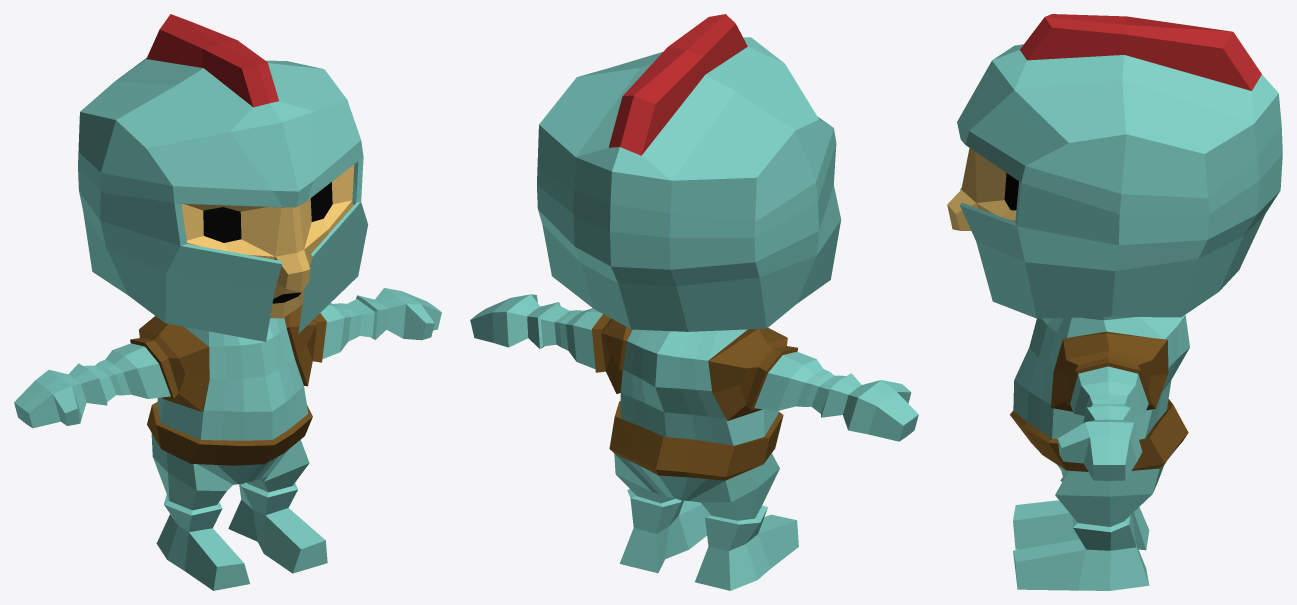
The model's file is player_separated.fbx.
The picture shows the model from 3 angles, left to right: view 1: azimuth 30°, elevation 25°; view 2: azimuth 150°, elevation 25°; view 3: azimuth 270°, elevation 25°; orthographic projection. The views are drawn at different scales.
Visible parts, largest first — view 1: final knight.002, final knight.003, final knight.004, final knight.001; view 2: final knight.002, final knight.003, final knight.004; view 3: final knight.002, final knight.003, final knight.004, final knight.001.
Part boxes in pixels (x1,y1,x2,y2): final knight.002: (78,14,368,341); final knight.003: (14,288,441,440); final knight.004: (147,402,327,590); final knight.001: (181,164,354,318); final knight.002: (537,14,841,331); final knight.003: (470,294,918,445); final knight.004: (609,401,798,590); final knight.002: (957,14,1282,318); final knight.003: (1013,315,1189,480); final knight.004: (1010,399,1188,590); final knight.001: (947,148,1018,230).
Size of the model in its own units: 134 by 156 by 86.99.
